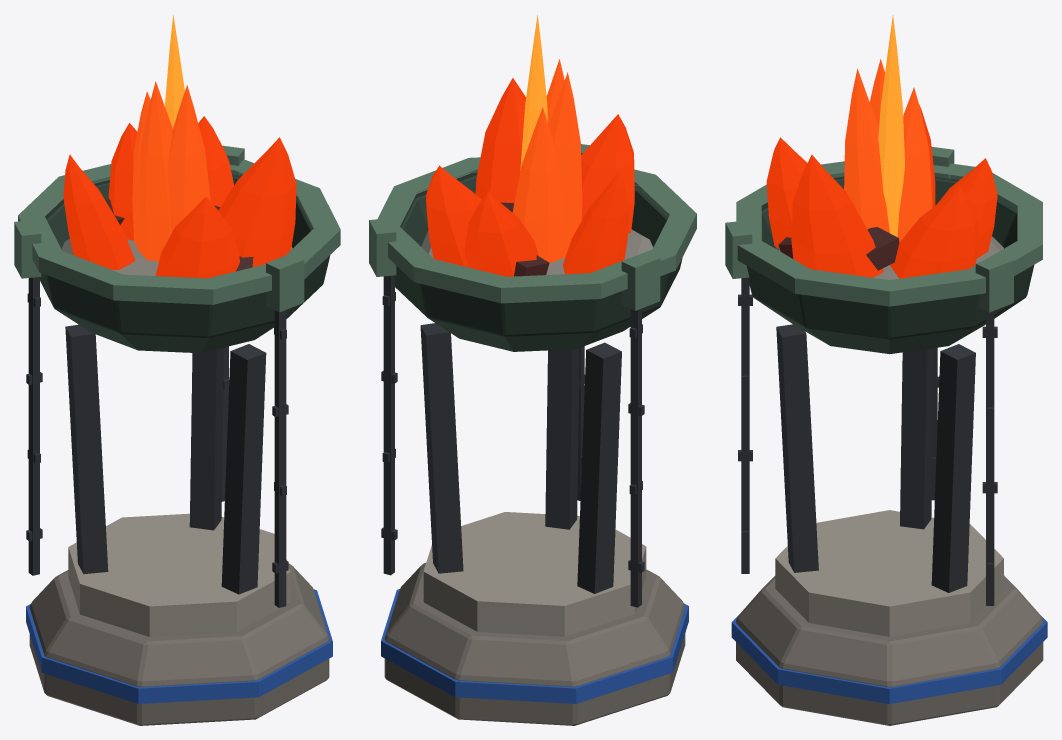
3 renders of one model, left to right at view 1: azimuth 30°, elevation 25°; view 2: azimuth 150°, elevation 25°; view 3: azimuth 270°, elevation 25°, orthographic.
Parts seen in each view (by area): view 1: BZ-iron, BZ-stone_mid, BZ-flame_out, BZ-stone_light, BZ-bronze, BZ-bronze_dark, BZ-ember, BZ-team, BZ-flame_in, BZ-ash; view 2: BZ-iron, BZ-stone_mid, BZ-flame_out, BZ-stone_light, BZ-bronze, BZ-bronze_dark, BZ-ember, BZ-team, BZ-flame_in, BZ-ash, BZ-coal; view 3: BZ-iron, BZ-stone_mid, BZ-stone_light, BZ-flame_out, BZ-bronze, BZ-bronze_dark, BZ-ember, BZ-team, BZ-flame_in, BZ-coal.
Boxes of the visible parts, bbox=[...] form: BZ-iron: bbox=[26, 277, 288, 607]; BZ-stone_mid: bbox=[29, 563, 329, 725]; BZ-flame_out: bbox=[63, 116, 296, 278]; BZ-stone_light: bbox=[68, 513, 290, 636]; BZ-bronze: bbox=[14, 145, 340, 312]; BZ-bronze_dark: bbox=[40, 175, 330, 353]; BZ-ember: bbox=[132, 81, 210, 261]; BZ-team: bbox=[26, 589, 332, 703]; BZ-flame_in: bbox=[165, 15, 184, 128]; BZ-ash: bbox=[61, 238, 292, 275]; BZ-iron: bbox=[381, 275, 644, 607]; BZ-stone_mid: bbox=[384, 563, 685, 725]; BZ-flame_out: bbox=[426, 78, 634, 276]; BZ-stone_light: bbox=[423, 512, 646, 636]; BZ-bronze: bbox=[369, 144, 696, 310]; BZ-bronze_dark: bbox=[394, 172, 682, 351]; BZ-ember: bbox=[512, 59, 582, 263]; BZ-team: bbox=[381, 589, 688, 703]; BZ-flame_in: bbox=[520, 15, 547, 170]; BZ-ash: bbox=[421, 229, 653, 274]; BZ-coal: bbox=[500, 202, 549, 276]; BZ-iron: bbox=[738, 277, 997, 605]; BZ-stone_mid: bbox=[736, 575, 1043, 725]; BZ-stone_light: bbox=[775, 510, 1003, 636]; BZ-flame_out: bbox=[766, 104, 997, 278]; BZ-bronze: bbox=[725, 147, 1042, 312]; BZ-bronze_dark: bbox=[747, 176, 1034, 354]; BZ-ember: bbox=[844, 59, 932, 242]; BZ-team: bbox=[731, 616, 1047, 704]; BZ-flame_in: bbox=[878, 15, 904, 236]; BZ-coal: bbox=[778, 227, 899, 270].
Size of the model in its own units: 0.9629 by 2.12 by 0.9589.
